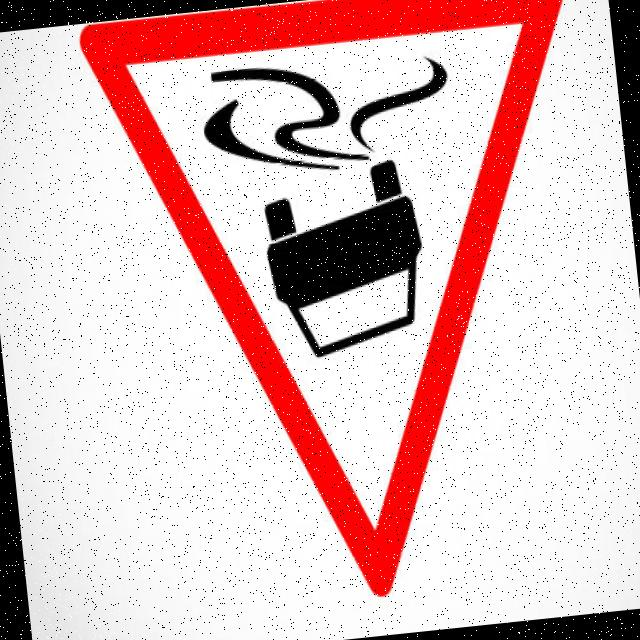road_slippery: (73, 0, 624, 630)
